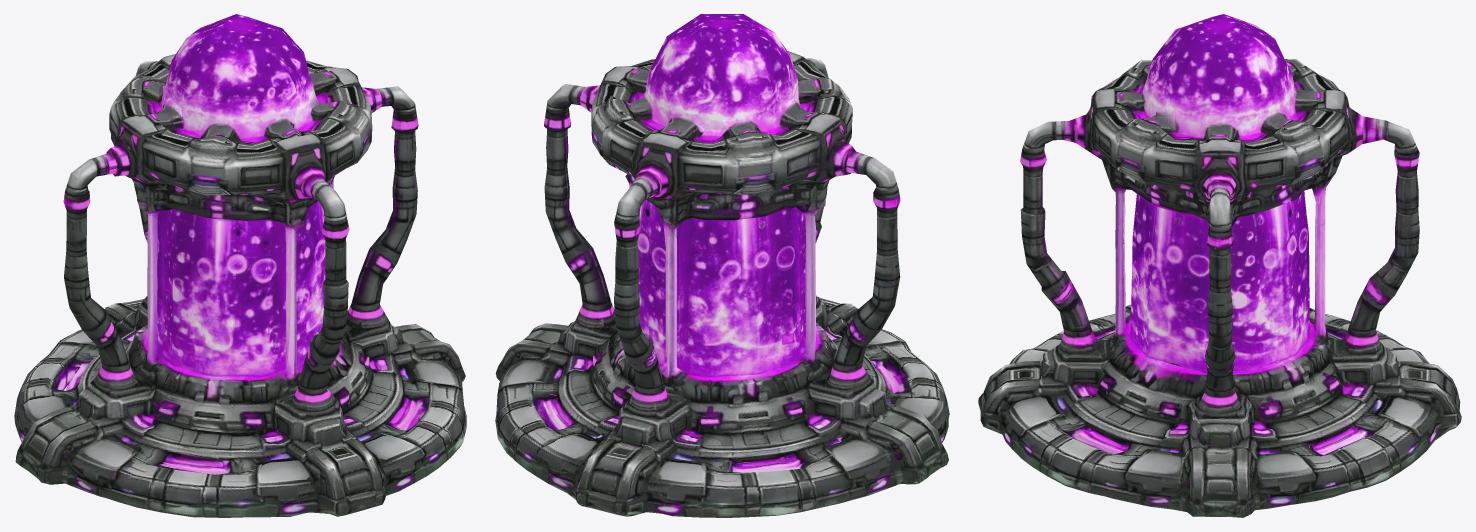
File: elixir_collector.glb
The picture shows the model from 3 angles, left to right: view 1: azimuth 30°, elevation 25°; view 2: azimuth 150°, elevation 25°; view 3: azimuth 270°, elevation 25°; orthographic projection.
Parts seen in each view (by area): view 1: Mesh0; view 2: Mesh0; view 3: Mesh0.
Part boxes in pixels (x1=…): Mesh0: x1=14, y1=14, x2=466, y2=517; Mesh0: x1=495, y1=14, x2=949, y2=517; Mesh0: x1=978, y1=14, x2=1461, y2=517.
Size of the model in its own units: 1.89 by 1.71 by 1.89.
1 material, 1 textured.
